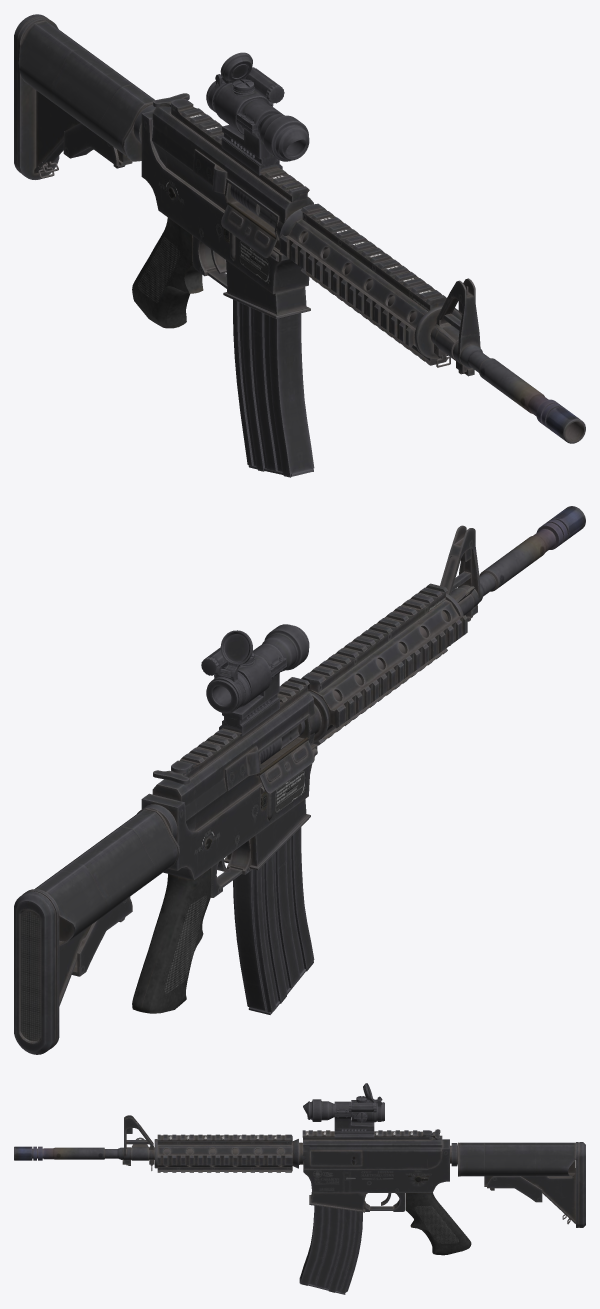
File: m4colt.glb
The picture shows the model from 3 angles, top to bottom: view 1: azimuth 30°, elevation 25°; view 2: azimuth 150°, elevation 25°; view 3: azimuth 270°, elevation 25°; orthographic projection. The views are drawn at different scales.
Visible parts, largest first — view 1: M4Colt; view 2: M4Colt; view 3: M4Colt.
Boxes of the visible parts, x1,y1,x2,y2 form: M4Colt: [14, 14, 585, 477]; M4Colt: [14, 506, 585, 1054]; M4Colt: [14, 1083, 585, 1294].
Bounding box in the file's own units: 0.3105 × 1.99 × 4.96.
Materials: 3 (3 with a texture image).
